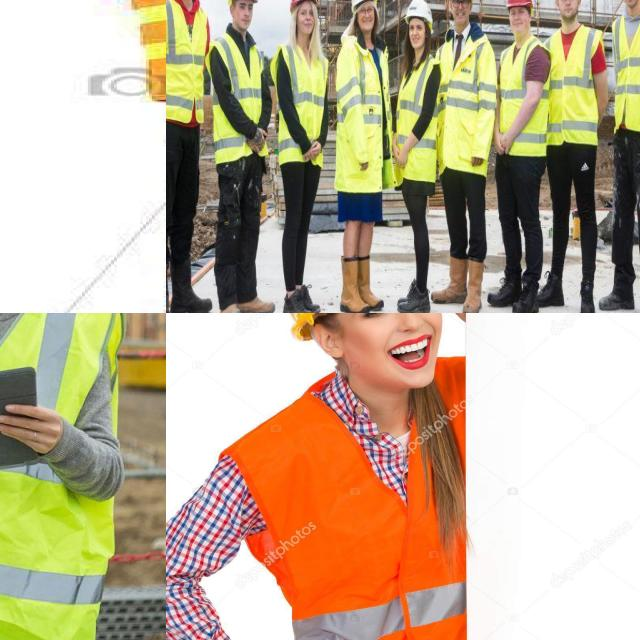No_Ear-Protection: (308, 320, 346, 360)
No_Glasses: (346, 313, 439, 322)
boots: (170, 256, 214, 313), (428, 252, 469, 306), (338, 248, 369, 313), (357, 253, 387, 313), (462, 259, 486, 313)
face_nomask: (340, 313, 447, 380), (228, 0, 253, 34), (354, 2, 382, 32), (294, 5, 316, 39), (508, 10, 532, 38), (408, 16, 428, 48), (451, 0, 473, 29), (559, 0, 581, 23), (622, 0, 640, 16)
glasses: (356, 4, 374, 20), (449, 0, 472, 10)
hand_noglove: (0, 384, 72, 469), (392, 133, 414, 174), (245, 125, 270, 159), (492, 130, 518, 160), (304, 138, 323, 162)
head_helmet: (406, 0, 433, 25), (290, 0, 319, 6), (507, 0, 531, 6)
person: (174, 313, 511, 640), (20, 0, 166, 313), (0, 313, 126, 640), (208, 0, 277, 313), (544, 0, 607, 313), (334, 0, 392, 313), (274, 0, 329, 313), (440, 0, 494, 313), (497, 0, 548, 313), (166, 0, 213, 313), (395, 0, 438, 313), (609, 0, 640, 313)
shoes: (484, 268, 525, 310), (533, 266, 567, 308), (508, 271, 540, 313), (595, 282, 638, 312), (233, 284, 277, 313), (394, 281, 432, 313), (281, 286, 315, 313), (575, 276, 598, 313), (214, 295, 242, 313)
vest: (272, 361, 464, 640), (0, 313, 122, 640), (208, 26, 266, 165), (544, 20, 603, 151), (276, 46, 334, 176), (435, 30, 497, 132), (334, 37, 391, 146), (500, 36, 550, 160), (397, 51, 437, 188), (166, 0, 209, 125), (610, 0, 640, 137)
